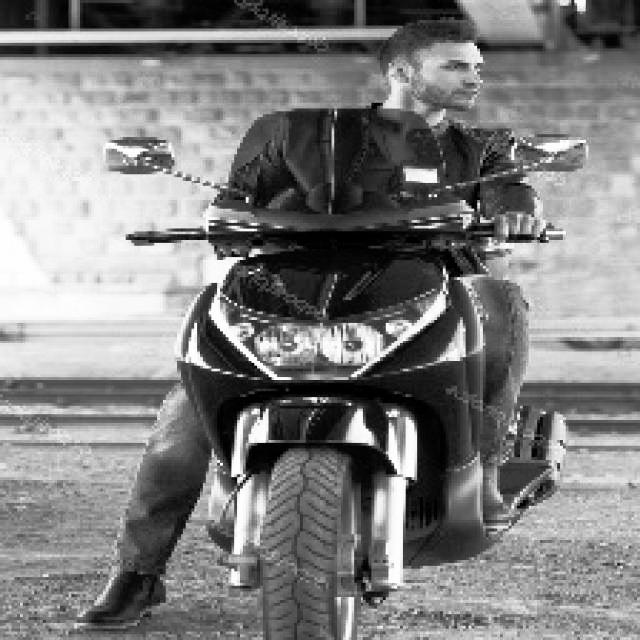Bike: (164, 192, 548, 640)
